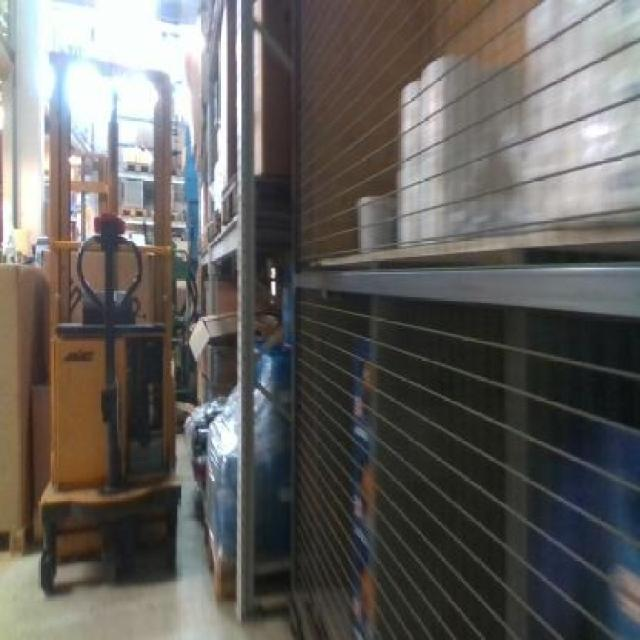pallets: (291, 0, 637, 637), (292, 265, 637, 637), (0, 262, 46, 551)
